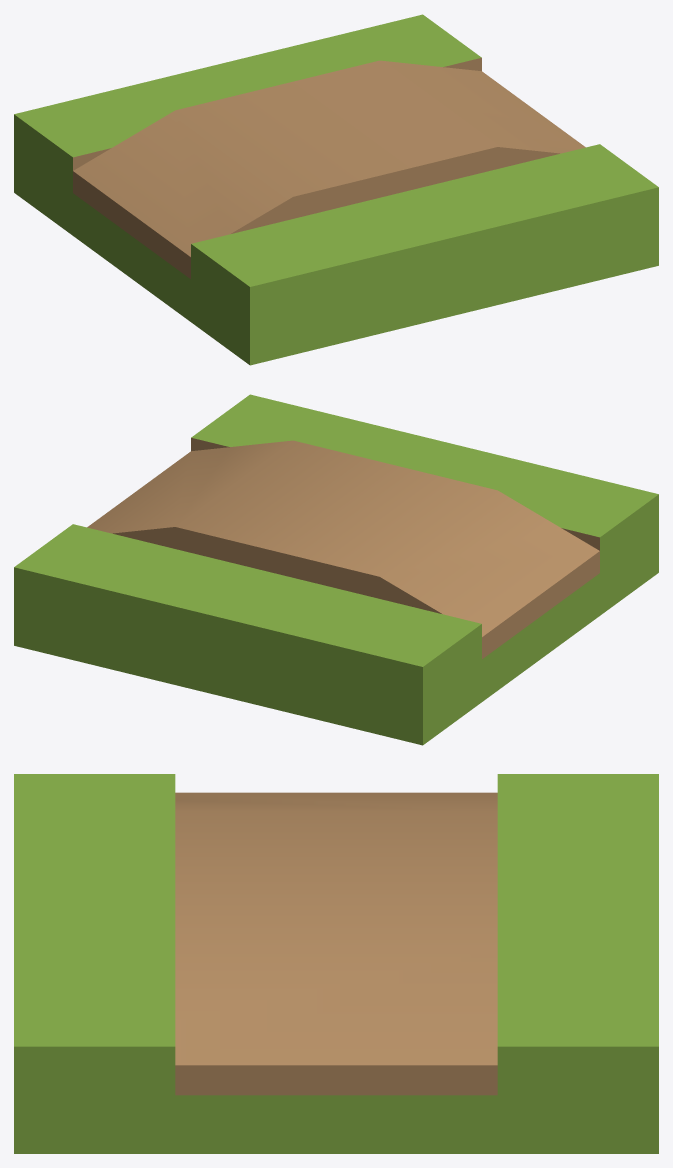
The model's file is tile224.obj.
3 renders of one model, top to bottom at view 1: azimuth 30°, elevation 25°; view 2: azimuth 150°, elevation 25°; view 3: azimuth 270°, elevation 25°, orthographic. The views are drawn at different scales.
Visible parts, largest first — view 1: tile224; view 2: tile224; view 3: tile224.
Part boxes in pixels (x1,y1,x2,y2): tile224: (14,14,658,365); tile224: (14,394,658,745); tile224: (14,774,658,1153).
Bounding box in the file's own units: 1 × 0.235 × 1.
